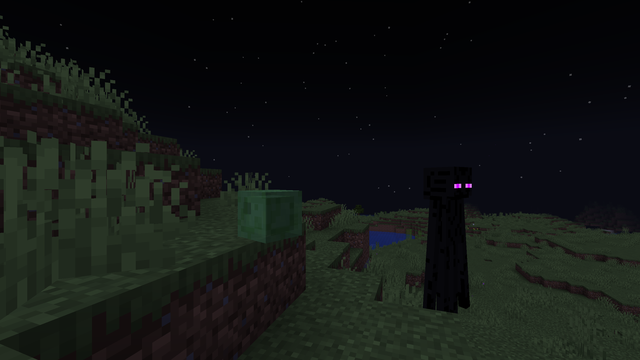endermens: (425, 160, 472, 312)
slimes: (235, 188, 300, 242)
